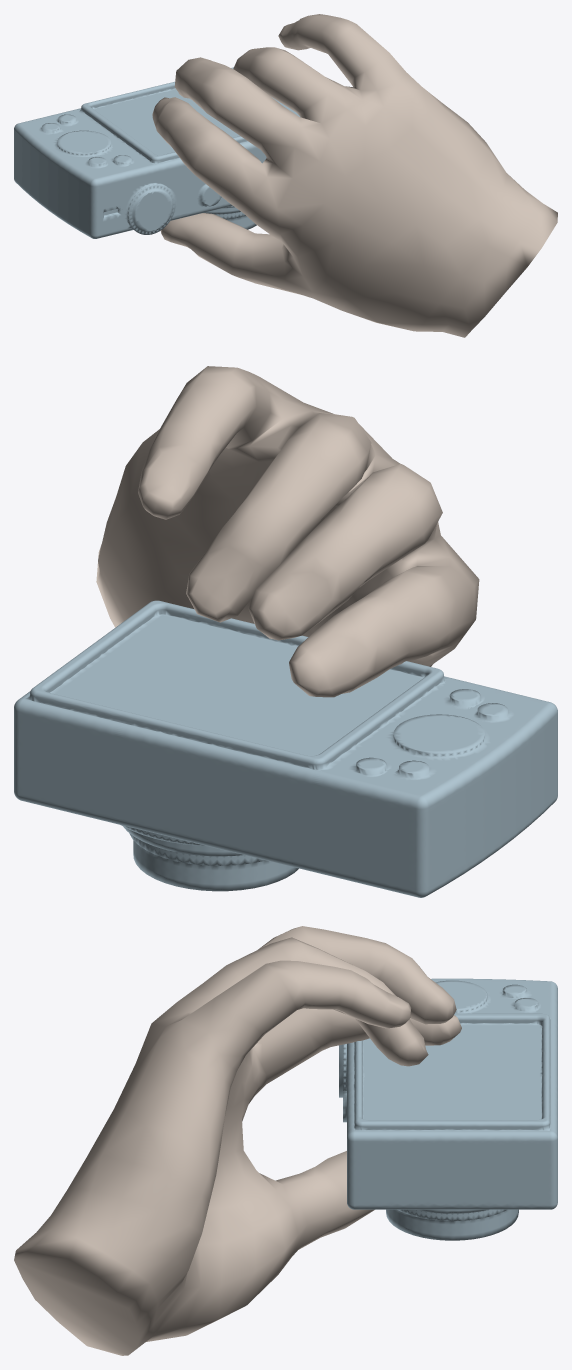
Rendered from ours_3.glb.
3 renders of one model, top to bottom at view 1: azimuth 30°, elevation 25°; view 2: azimuth 150°, elevation 25°; view 3: azimuth 270°, elevation 25°, orthographic. The views are drawn at different scales.
Bounding box in the file's own units: 0.1698 × 0.121 × 0.1677.
